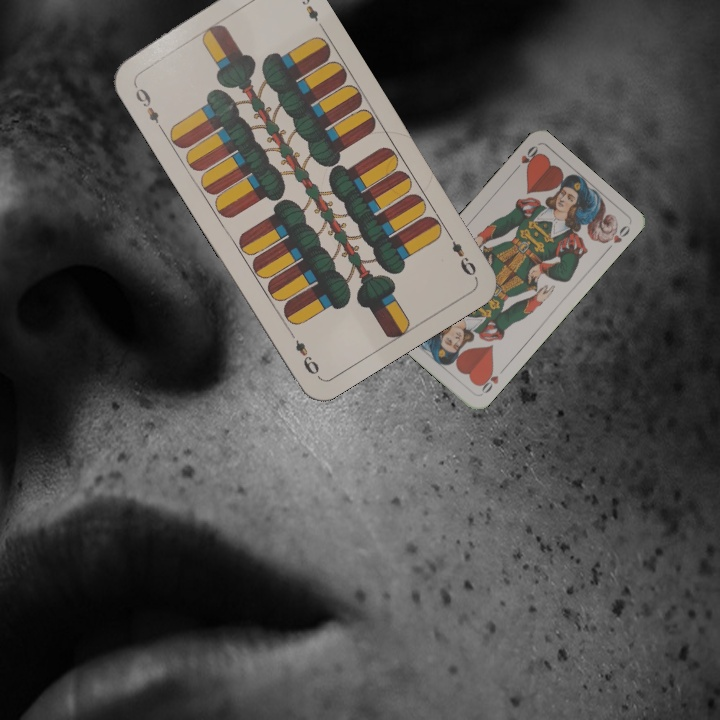E9: (130, 79, 166, 133), (442, 227, 479, 279)
HO: (509, 141, 542, 175), (475, 364, 508, 396)
